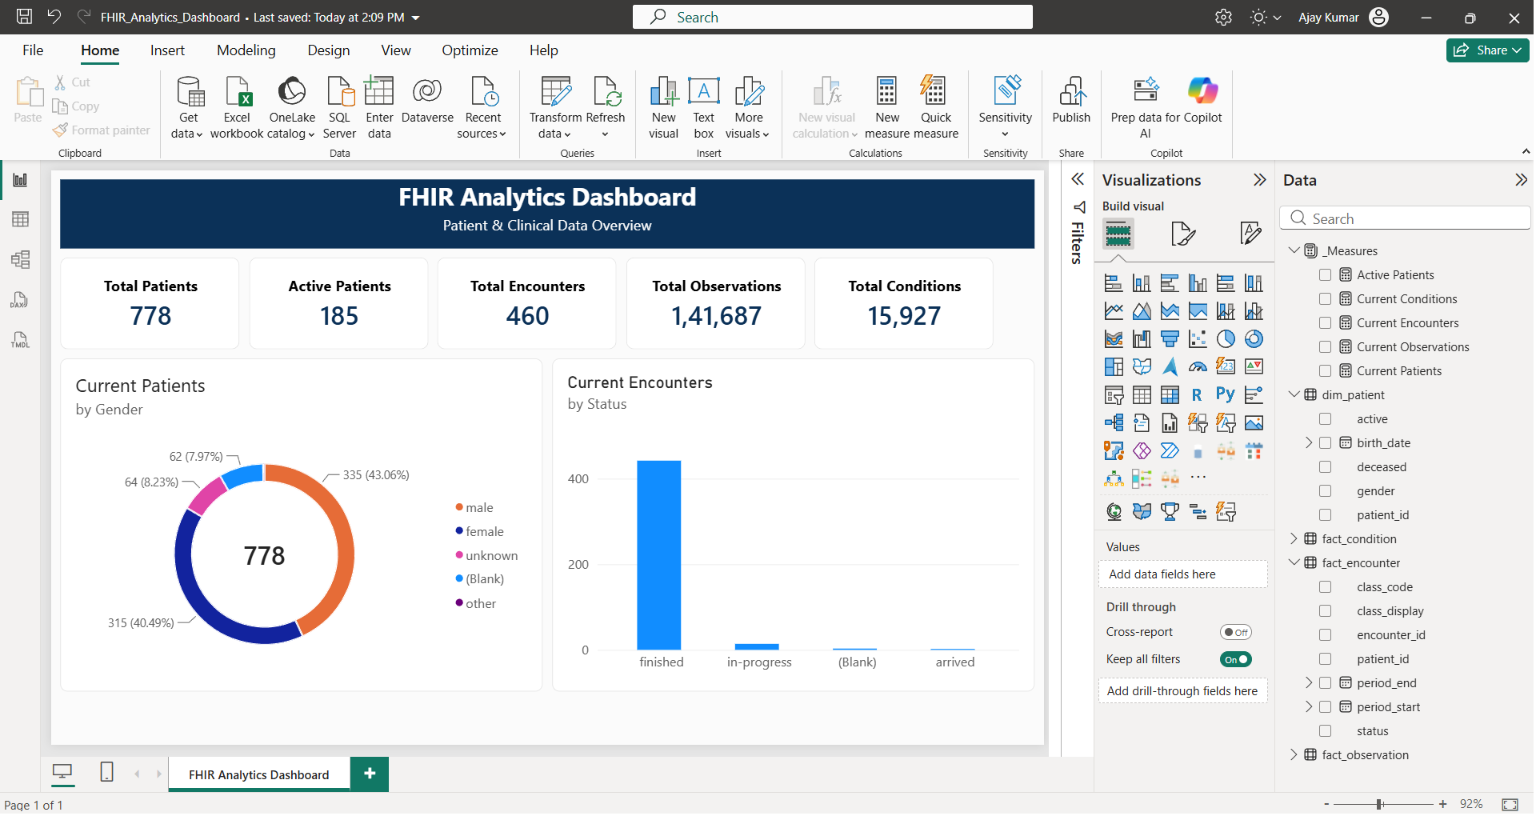

What the dashboard file says about the page in this screenshot:
{"tool":"powerbi","page":{"name":"FHIR Analytics Dashboard","canvas":[1080,625],"ordinal":0},"visuals":[{"type":"textbox","title":"FHIR Analytics Dashboard","box":[10,10,1060,75],"z":1},{"type":"cardVisual","fields":{"Data":["_Measures.Current Patients"]},"box":[10,95,195,100],"z":2},{"type":"cardVisual","fields":{"Data":["_Measures.Active Patients"]},"box":[215,95,195,100],"z":3},{"type":"cardVisual","fields":{"Data":["_Measures.Current Encounters"]},"box":[420,95,195,100],"z":4},{"type":"cardVisual","fields":{"Data":["_Measures.Current Observations"]},"box":[625,95,195,100],"z":5},{"type":"cardVisual","fields":{"Data":["_Measures.Current Conditions"]},"box":[830,95,195,100],"z":6},{"type":"donutChart","fields":{"Category":["dim_patient.gender"],"Y":["_Measures.Current Patients"]},"box":[9.8,204.5,525,362.2],"z":7},{"type":"columnChart","fields":{"Category":["fact_encounter.status"],"Y":["_Measures.Current Encounters"]},"box":[545,205,525,362.2],"z":8}]}

Visuals, with their boxes on the page's 1080x625 design canvas (x1, y1, x2, y2). These are canvas units, not pixel positions in the 1534x814 screenshot, which may show the page scaled, cropped or inside an application window:
"FHIR Analytics Dashboard" textbox: box=[10, 10, 1070, 85]
cardVisual - _Measures.Current Patients: box=[10, 95, 205, 195]
cardVisual - _Measures.Active Patients: box=[215, 95, 410, 195]
cardVisual - _Measures.Current Encounters: box=[420, 95, 615, 195]
cardVisual - _Measures.Current Observations: box=[625, 95, 820, 195]
cardVisual - _Measures.Current Conditions: box=[830, 95, 1025, 195]
donutChart - dim_patient.gender x _Measures.Current Patients: box=[10, 204, 535, 567]
columnChart - fact_encounter.status x _Measures.Current Encounters: box=[545, 205, 1070, 567]
